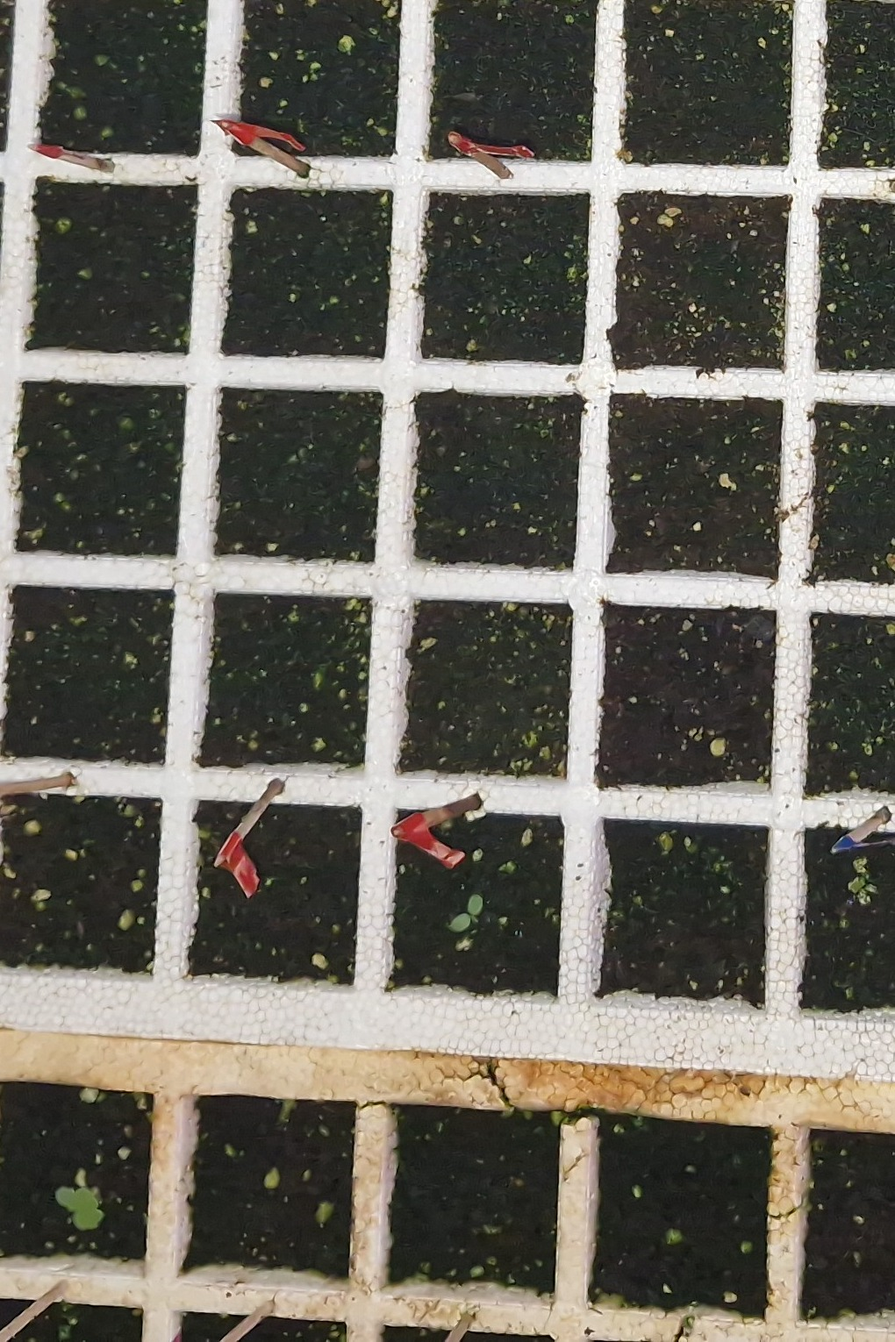Folha: (452, 914, 470, 931), (468, 895, 483, 913)
Germinacao: (451, 894, 483, 931)
